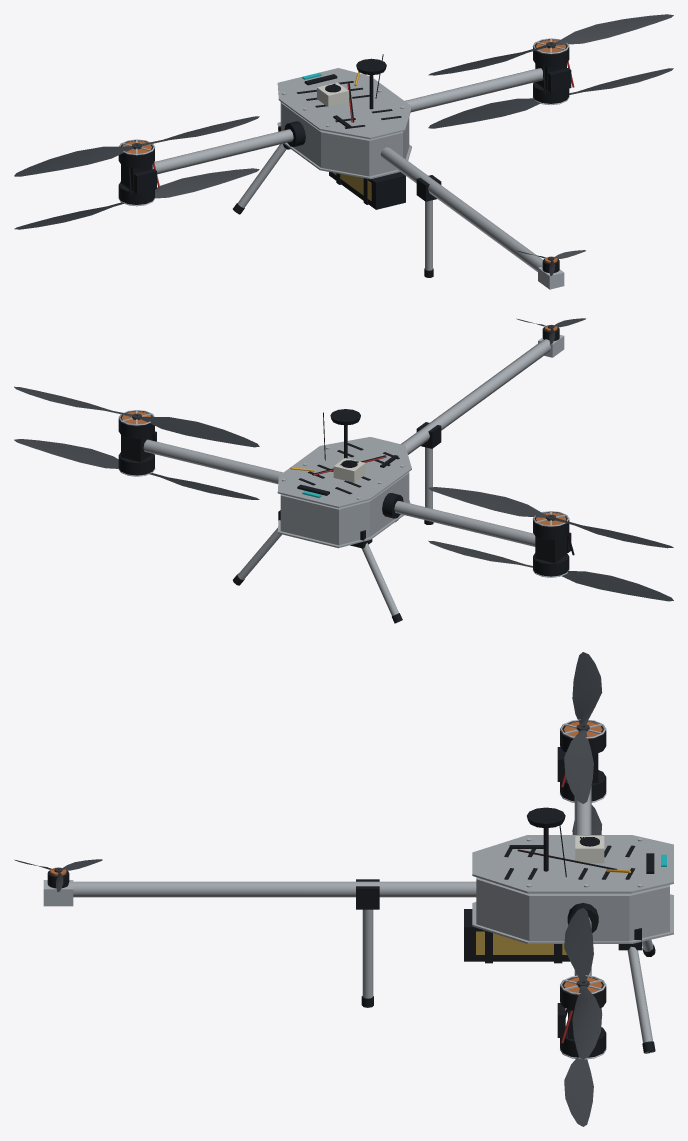
File: voliro_t.glb
3 views of the same model, one above another, from view 1: azimuth 30°, elevation 25°; view 2: azimuth 150°, elevation 25°; view 3: azimuth 270°, elevation 25° (orthographic). The views are drawn at different scales.
Parts seen in each view (by area): view 1: voliro-t-photo-airframe, voliro-left-coaxial-pod, voliro-right-coaxial-pod, M3, M1, M2, M4, voliro-t-battery-pack, voliro-t-battery; view 2: voliro-t-photo-airframe, voliro-left-coaxial-pod, M3, M1, voliro-right-coaxial-pod, M4, M2; view 3: voliro-t-photo-airframe, M1, M3, voliro-right-coaxial-pod, voliro-left-coaxial-pod, M2, voliro-t-battery, voliro-t-battery-pack.
Part boxes in pixels (x1,y1,x2,y2): voliro-t-photo-airframe: (152, 54, 564, 289); voliro-left-coaxial-pod: (118, 139, 160, 206); voliro-right-coaxial-pod: (532, 38, 574, 105); M3: (14, 116, 259, 176); M1: (428, 14, 673, 75); M2: (428, 68, 673, 128); M4: (14, 168, 259, 229); voliro-t-battery-pack: (329, 172, 405, 209); voliro-t-battery: (333, 172, 371, 204); voliro-t-photo-airframe: (143, 324, 564, 623); voliro-left-coaxial-pod: (533, 511, 574, 577); M3: (428, 487, 673, 548); M1: (14, 386, 259, 447); voliro-right-coaxial-pod: (118, 410, 156, 476); M4: (428, 540, 673, 601); M2: (14, 439, 259, 499); voliro-t-photo-airframe: (43, 785, 673, 1053); M1: (564, 908, 602, 1059); M3: (564, 652, 602, 803); voliro-right-coaxial-pod: (557, 975, 606, 1059); voliro-left-coaxial-pod: (557, 719, 606, 802); M2: (564, 1008, 602, 1126); voliro-t-battery: (476, 930, 566, 963); voliro-t-battery-pack: (464, 909, 570, 961).
Bounding box in the file's own units: 1.43 × 0.3301 × 0.9811.
